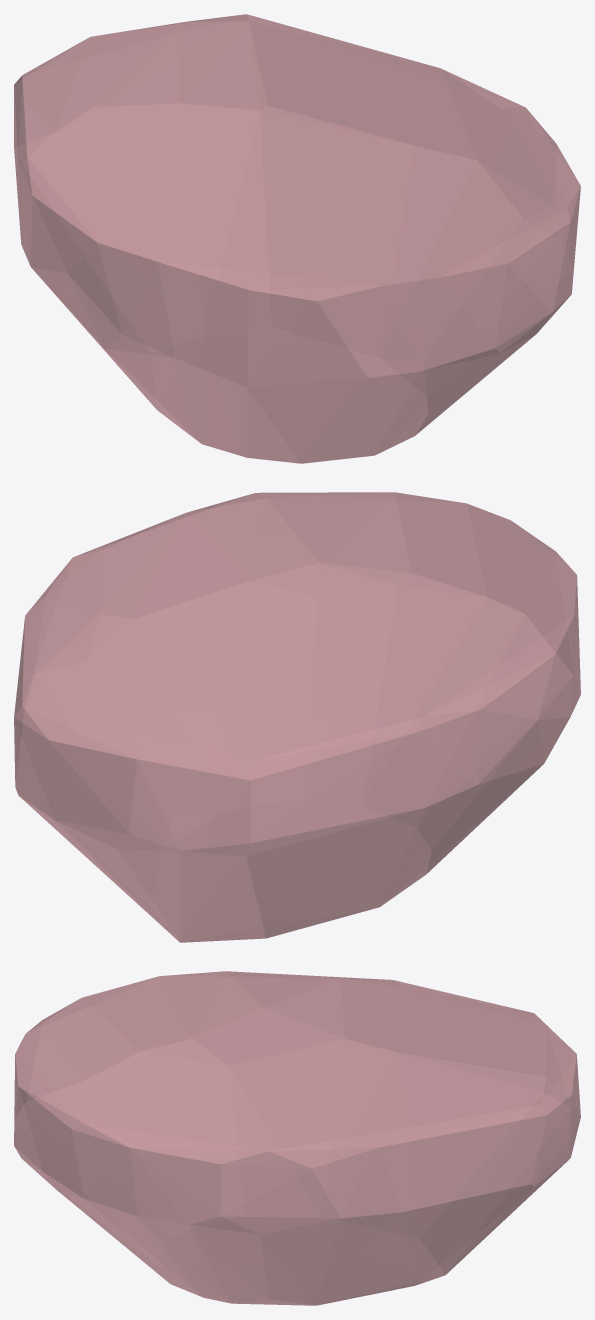
3 views of the same model, one above another, from view 1: azimuth 30°, elevation 25°; view 2: azimuth 150°, elevation 25°; view 3: azimuth 270°, elevation 25° (orthographic). The views are drawn at different scales.
Visible parts, largest first — view 1: Shape_IndexedFaceSet.004_Shape_IndexedFaceSet.8253; view 2: Shape_IndexedFaceSet.004_Shape_IndexedFaceSet.8253; view 3: Shape_IndexedFaceSet.004_Shape_IndexedFaceSet.8253.
Boxes of the visible parts, box(x1,y1,x2,y2) form: Shape_IndexedFaceSet.004_Shape_IndexedFaceSet.8253: box(14, 14, 580, 463); Shape_IndexedFaceSet.004_Shape_IndexedFaceSet.8253: box(14, 492, 580, 942); Shape_IndexedFaceSet.004_Shape_IndexedFaceSet.8253: box(14, 971, 580, 1305).
Bounding box in the file's own units: 0.5561 × 0.2926 × 0.7131.
